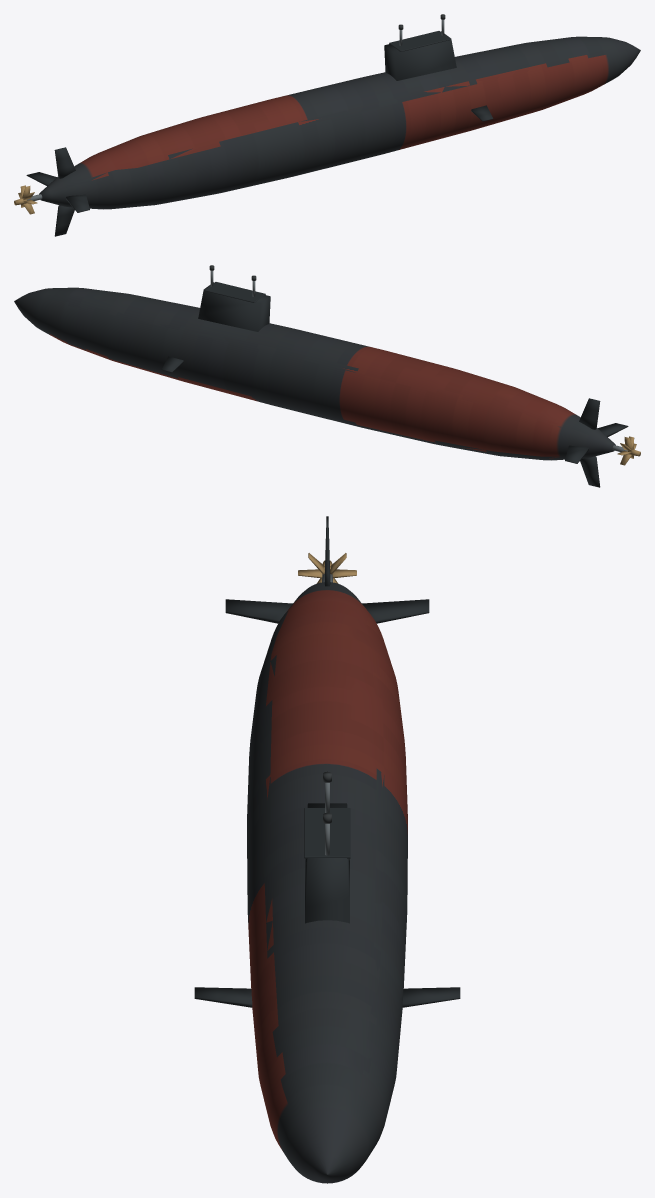
File: UK_SSN_Valiant_LOD1.fbx
The picture shows the model from 3 angles, top to bottom: view 1: azimuth 30°, elevation 25°; view 2: azimuth 150°, elevation 25°; view 3: azimuth 270°, elevation 25°; orthographic projection. The views are drawn at different scales.
Visible parts, largest first — view 1: UK_SSN_Valiant_LOD1; view 2: UK_SSN_Valiant_LOD1; view 3: UK_SSN_Valiant_LOD1.
Part boxes in pixels (left/top/right/bottom): UK_SSN_Valiant_LOD1: left=14, top=14, right=640, bottom=236; UK_SSN_Valiant_LOD1: left=14, top=265, right=640, bottom=487; UK_SSN_Valiant_LOD1: left=194, top=516, right=460, bottom=1183.
Bounding box in the file's own units: 90.75 × 16.7 × 17.55.
Materials: 6 (1 with a texture image).
